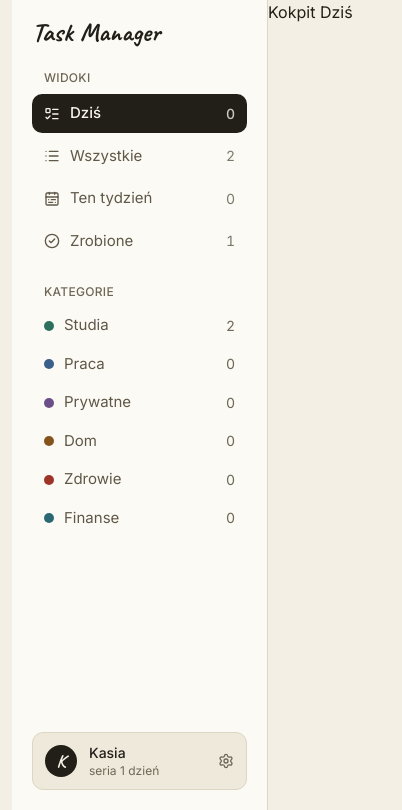
Test: AppShell — nawigacja i liczniki › desktop: karta usera jest linkiem do Ustawień (POPRAWKA 1)
This screenshot has width=402, height=810.
(page scrolled)
Click the link named "Ustawienia" at (140,761), box [32,732,247,790]
(page scrolled)
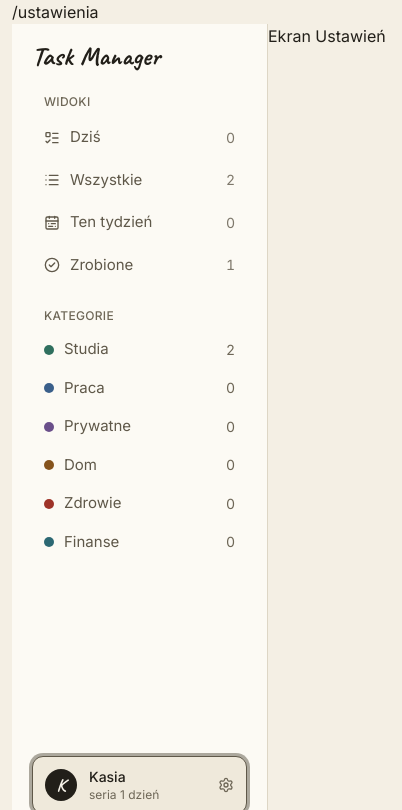
expect the heading "Ekran Ustawień" is shown: met, box [268,26,386,46]
expect the text with test id "path" reads "/ustawienia": met, box [12,2,99,22]
